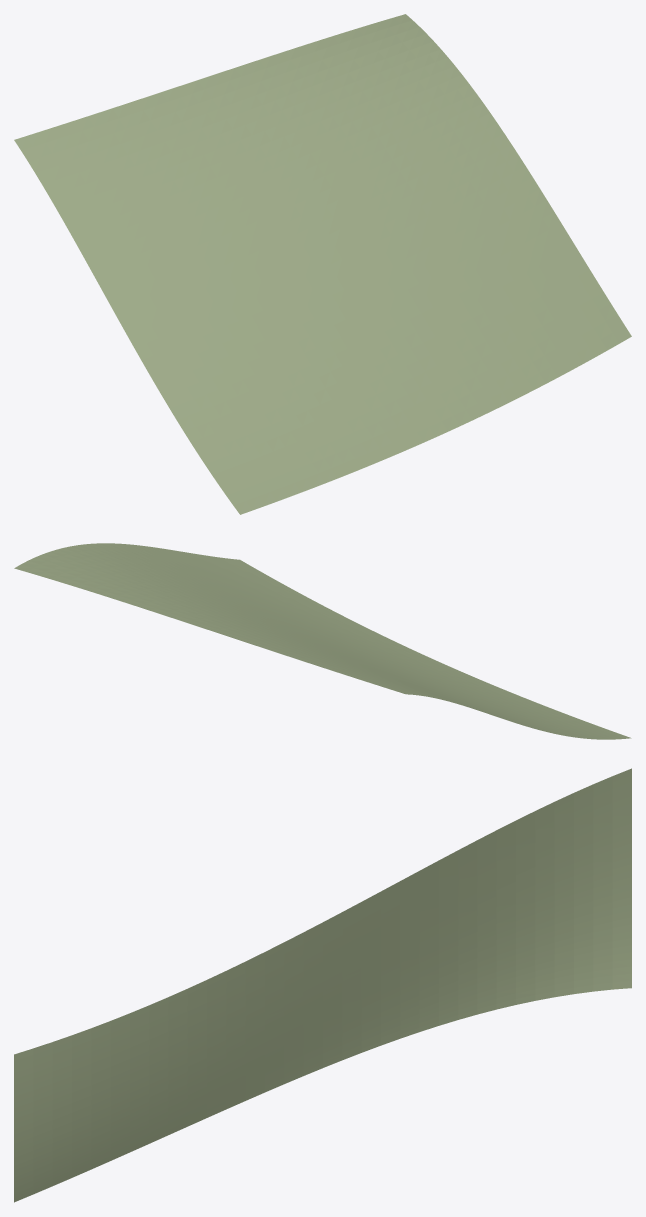
The model's file is expanse-26-22.glb.
3 renders of one model, top to bottom at view 1: azimuth 30°, elevation 25°; view 2: azimuth 150°, elevation 25°; view 3: azimuth 270°, elevation 25°, orthographic. The views are drawn at different scales.
Visible parts, largest first — view 1: expanse-26-22; view 2: expanse-26-22; view 3: expanse-26-22.
Boxes of the visible parts, <box> form: expanse-26-22: <box>14,14,631,514</box>; expanse-26-22: <box>14,543,631,739</box>; expanse-26-22: <box>14,768,631,1202</box>.
Bounding box in the file's own units: 256 × 150 × 256.
